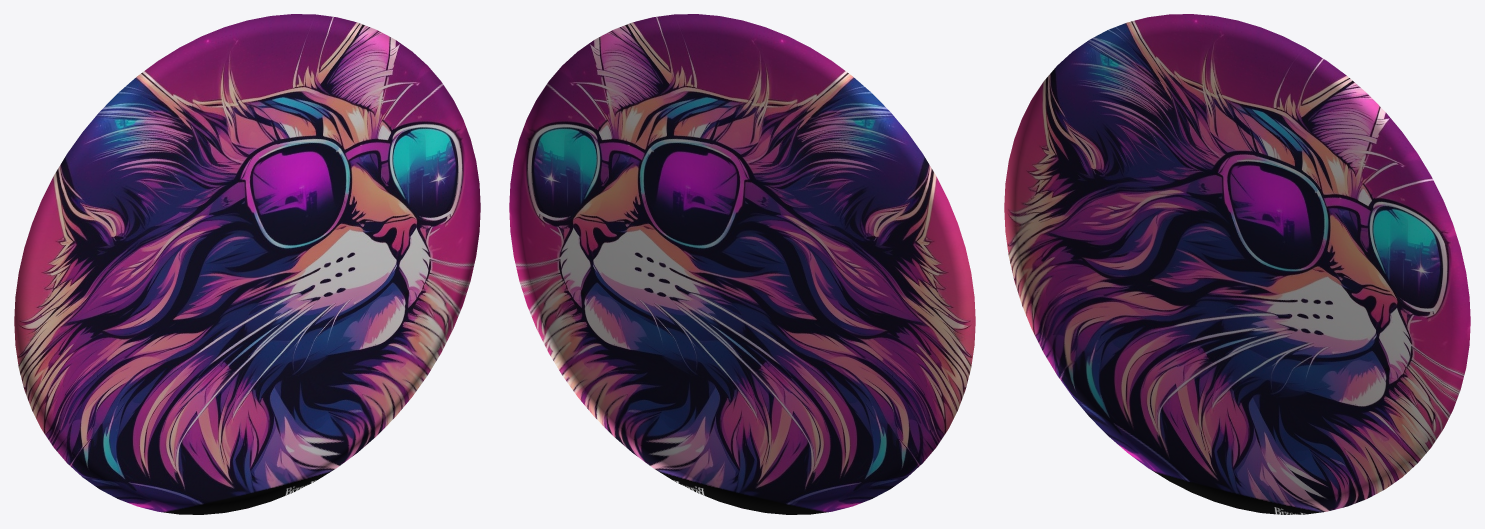
Rendered from sample.glb.
3 views of the same model, side by side, from view 1: azimuth 30°, elevation 25°; view 2: azimuth 150°, elevation 25°; view 3: azimuth 330°, elevation 25° (orthographic).
Parts seen in each view (by area): view 1: world; view 2: world; view 3: world.
Part boxes in pixels (x1,y1,x2,y2): world: (14, 14, 480, 514); world: (509, 14, 975, 514); world: (1004, 14, 1470, 514).
Bounding box in the file's own units: 2 × 2 × 0.1.
Materials: 1 (1 with a texture image).
